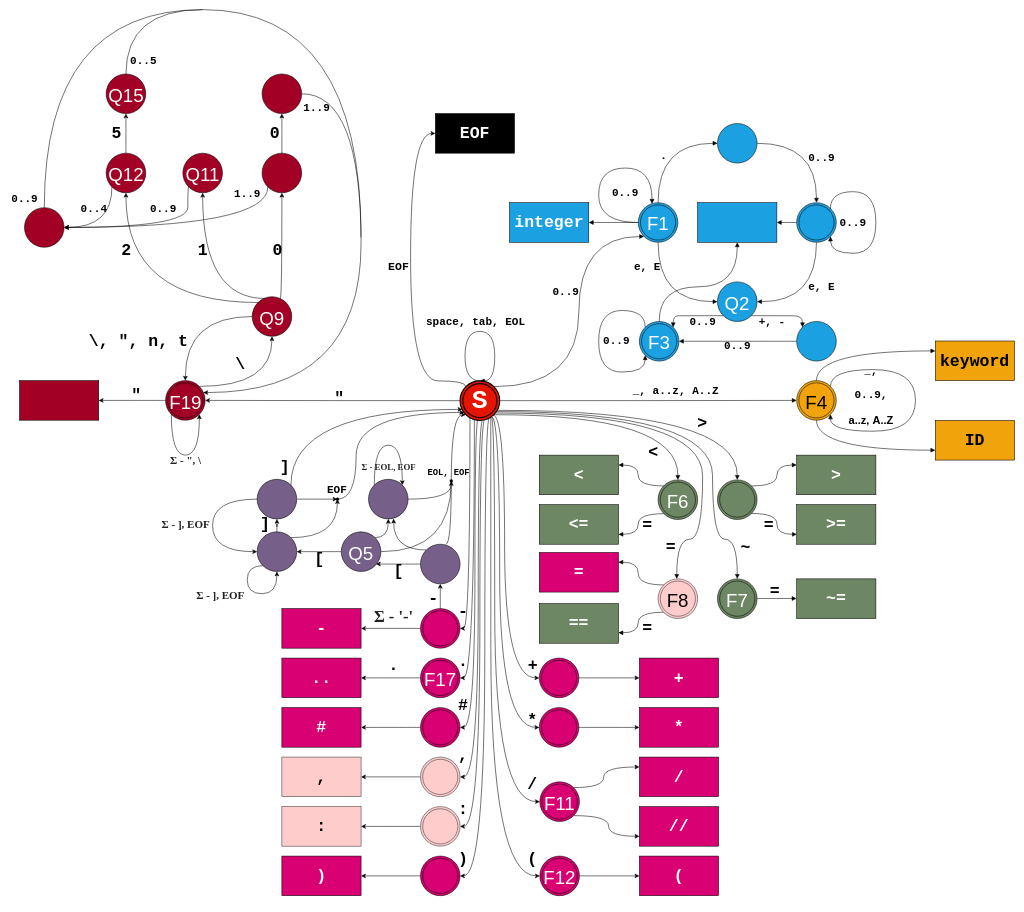
Image size: 1024x912. Some labels were removed from this diagram. Each missing label, with the centre of its shape:
"F10" belongs at pixel 559 727.
"F13" belongs at pixel 440 876.
"F14" belongs at pixel 440 826.
"F15" belongs at pixel 440 777.
"F16" belongs at pixel 440 727.
"F18" belongs at pixel 440 628.
"F2" belongs at pixel 816 222.
"F5" belongs at pixel 737 499.
"F9" belongs at pixel 559 678.
"number" belongs at pixel 737 222.
"Q1" belongs at pixel 737 143.
"Q10" belongs at pixel 282 173.
"Q13" belongs at pixel 44 227.
"Q14" belongs at pixel 282 93.
"Q3" belongs at pixel 816 341.
"Q4" belongs at pixel 440 564.
"Q6" belongs at pixel 277 551.
"Q7" belongs at pixel 388 499.
"Q8" belongs at pixel 277 499.
"string" belongs at pixel 59 400.
